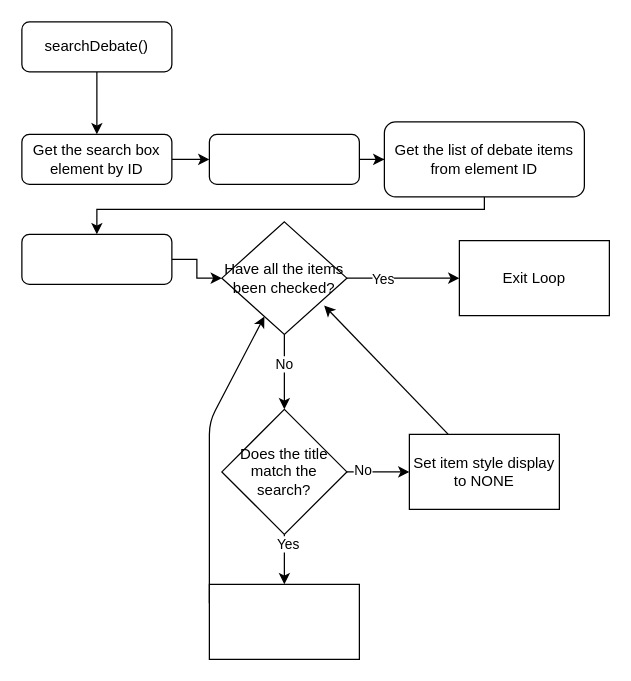
Image size: 631x681. Some labels were removed from this diagram. The shapes that lost their labels are listed below. From the top down, each one's centre as x and y in pixels, then its label:
At pixel 283 158: "Save it to a variable called search".
At pixel 96 258: "save to a variable called debateItems".
At pixel 283 621: "Do not change item style display".
